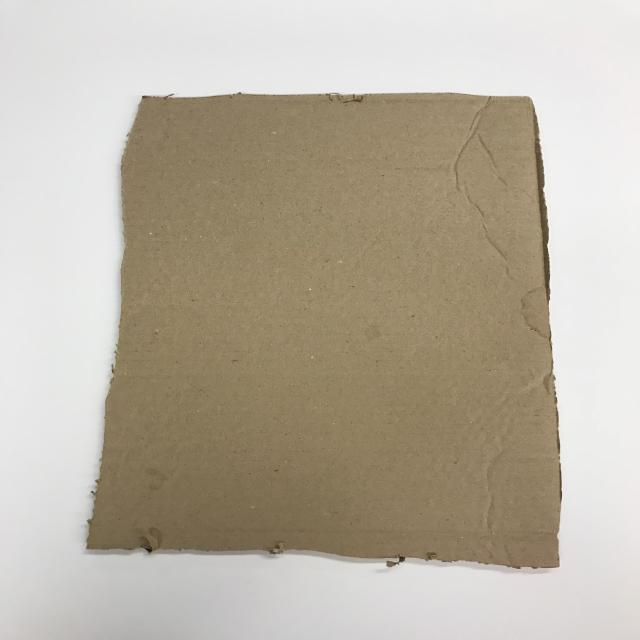Cardboard: (82, 74, 584, 593)
